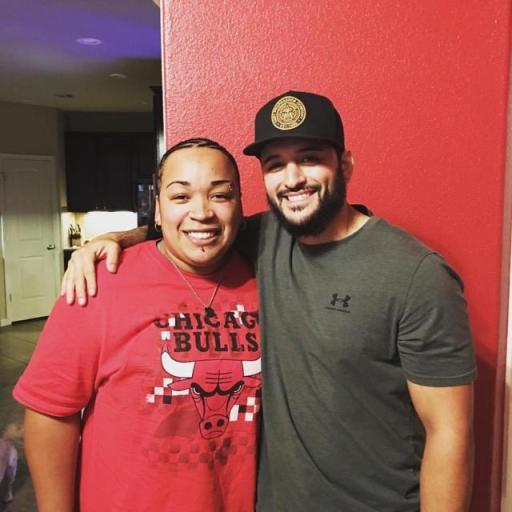Under Armour: (324, 291, 353, 316)
